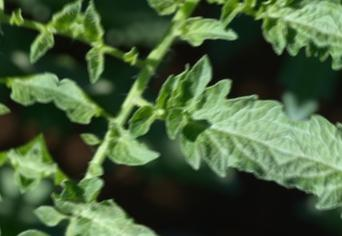Tomato leaf mosaic virus: (160, 73, 298, 199), (60, 186, 238, 236), (94, 118, 168, 179), (47, 73, 117, 135), (170, 4, 245, 61), (125, 103, 162, 145)
